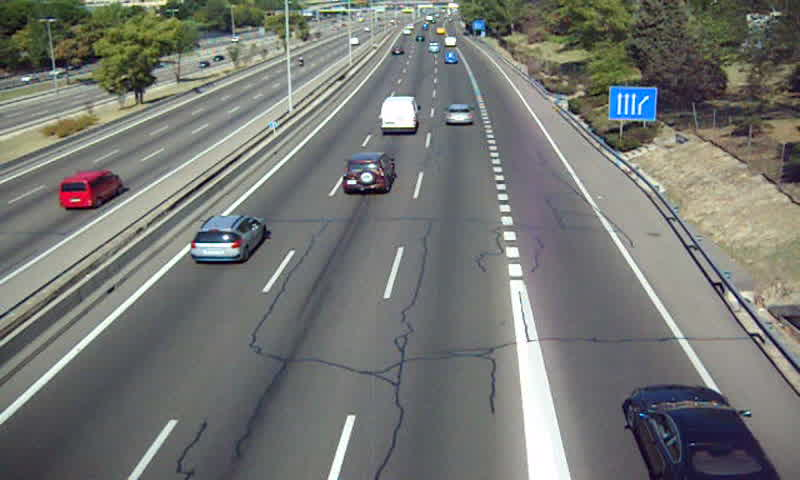car: (625, 384, 783, 480), (189, 216, 264, 264), (342, 154, 393, 194), (443, 104, 475, 125)
van: (380, 96, 420, 135)
